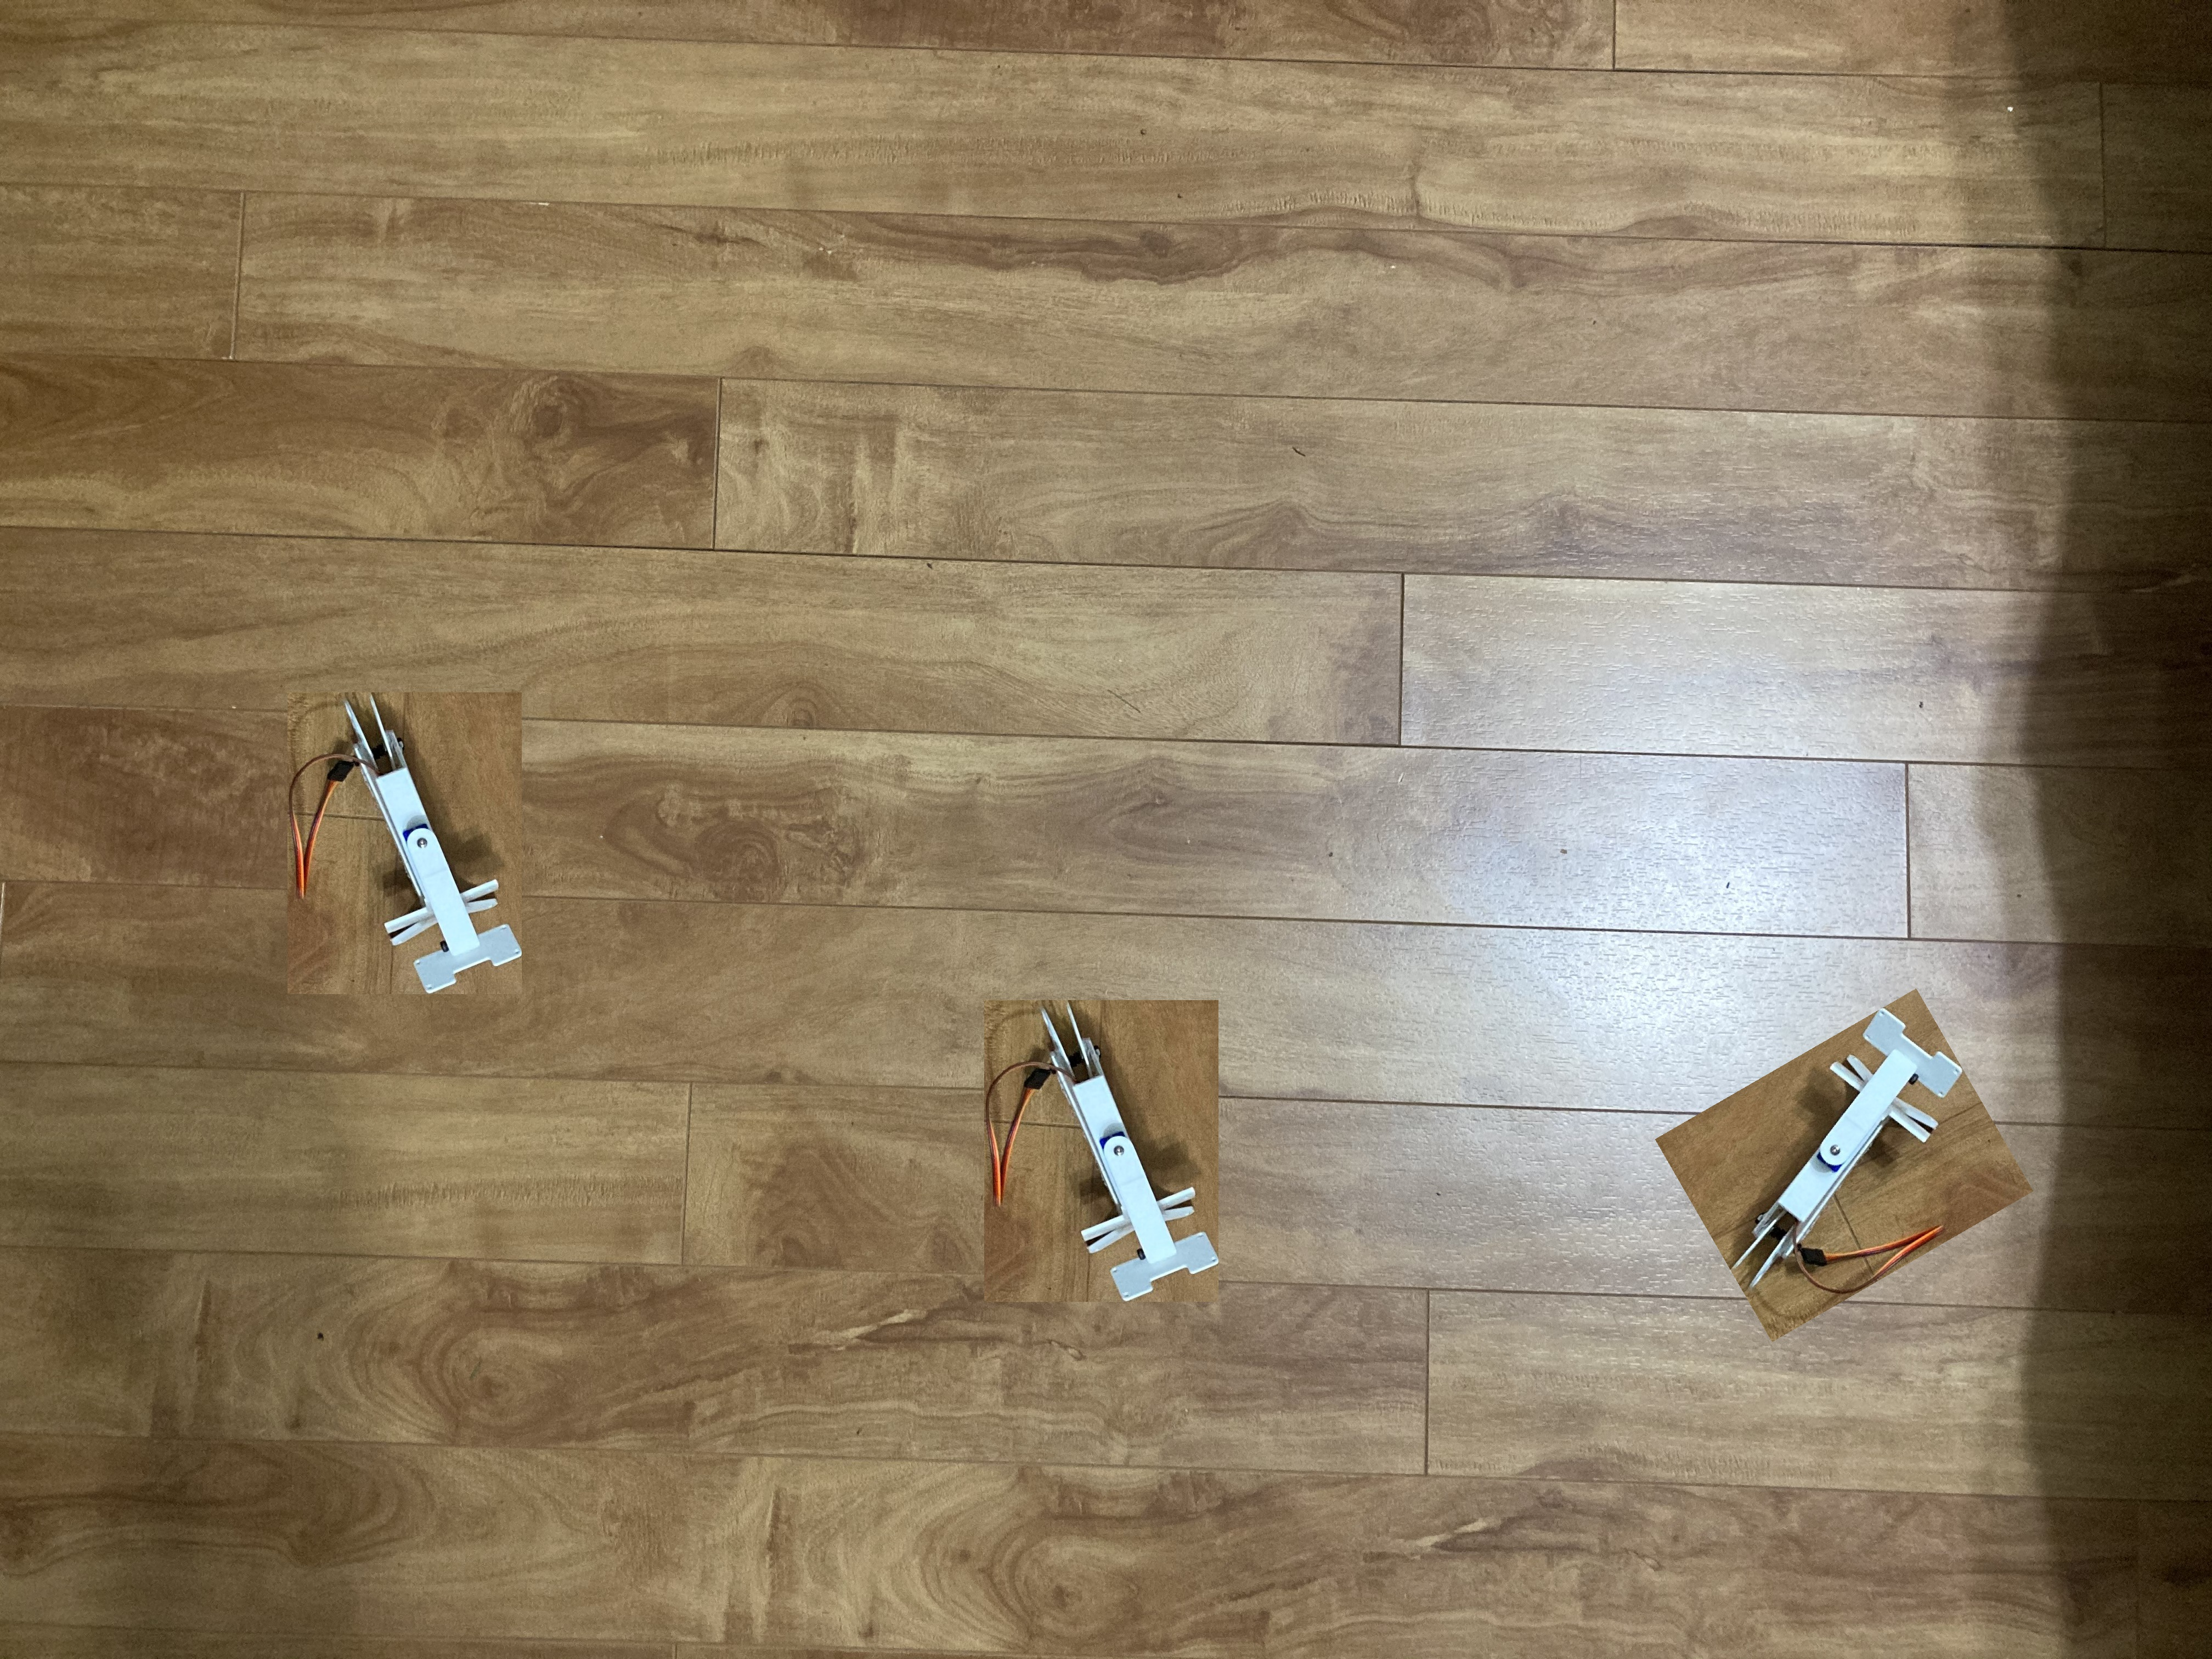robot: (993, 974, 1259, 1331), (1745, 1002, 1991, 1324), (308, 674, 535, 1014)
